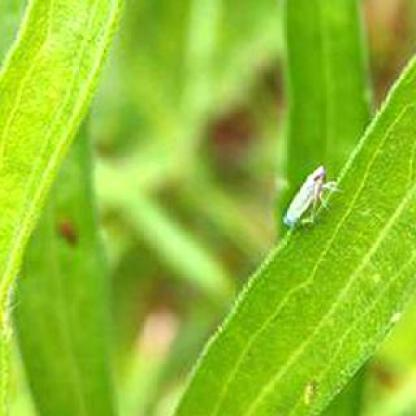green-leafhopper: (284, 164, 344, 231)
